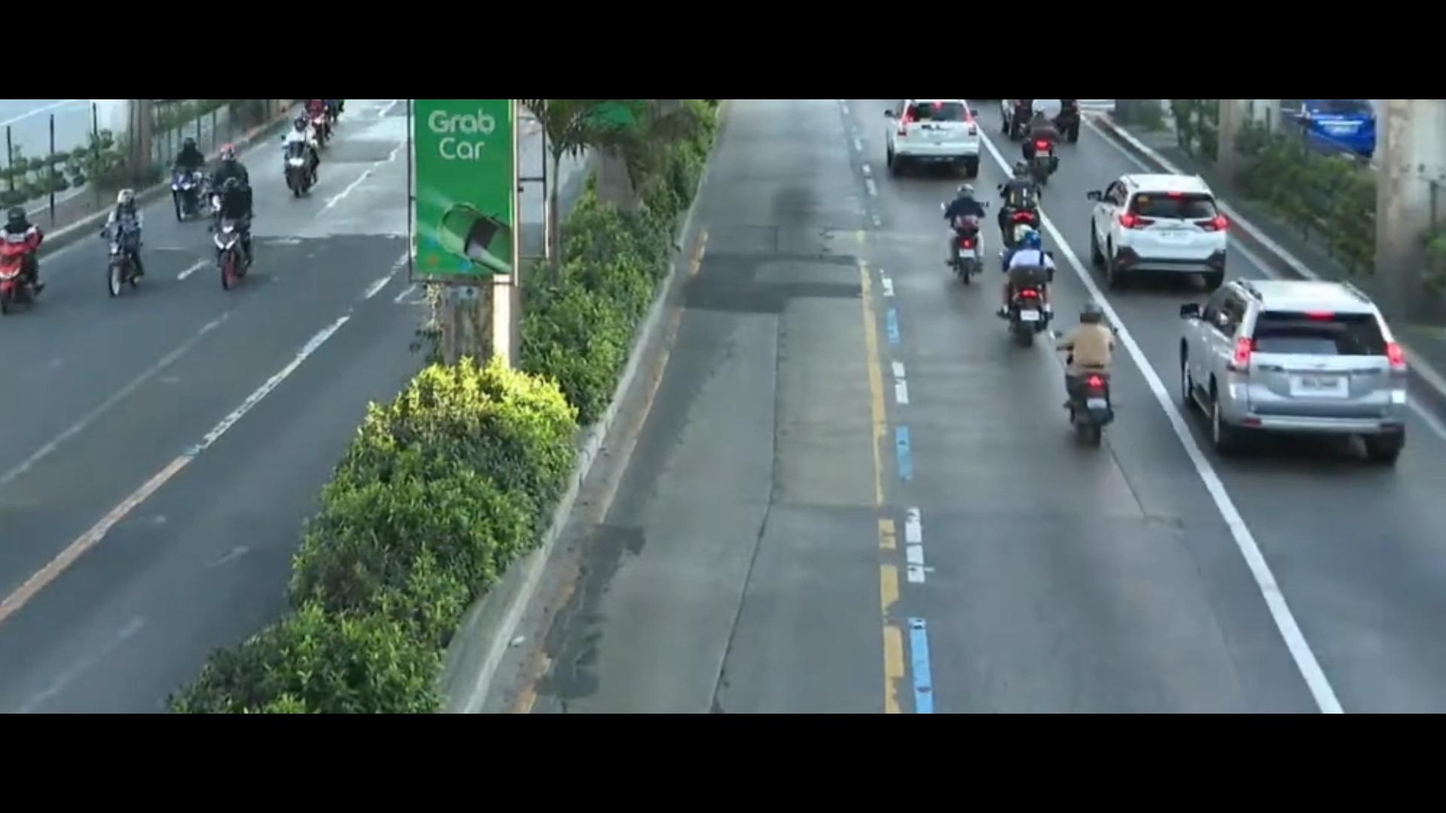Motorcycle: (1025, 279, 1149, 456), (77, 180, 166, 317), (194, 149, 277, 293), (919, 179, 983, 305), (0, 196, 61, 322), (277, 113, 326, 192)
SUV: (1181, 258, 1429, 477), (1089, 164, 1252, 287), (865, 105, 985, 179)
